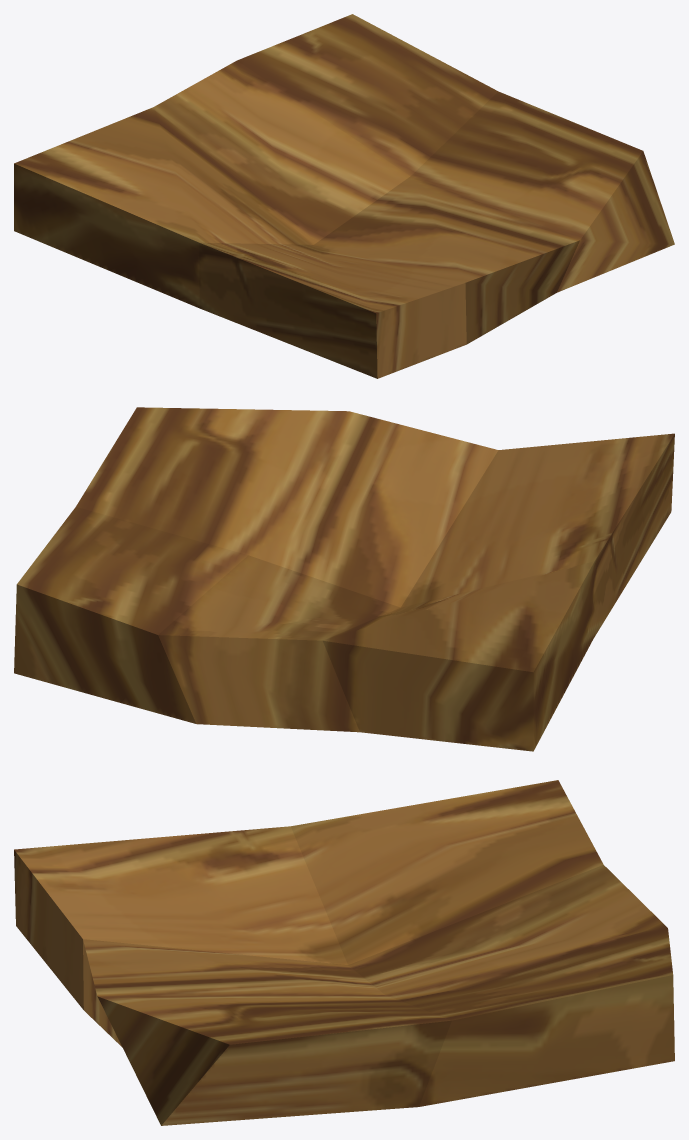
The model's file is plank_1x1.glb.
3 renders of one model, top to bottom at view 1: azimuth 30°, elevation 25°; view 2: azimuth 150°, elevation 25°; view 3: azimuth 270°, elevation 25°, orthographic. The views are drawn at different scales.
Parts seen in each view (by area): view 1: PLanks_square_small; view 2: PLanks_square_small; view 3: PLanks_square_small.
Boxes of the visible parts, <box> form: PLanks_square_small: <box>14,14,674,378</box>; PLanks_square_small: <box>14,407,674,751</box>; PLanks_square_small: <box>14,780,674,1125</box>.
Bounding box in the file's own units: 1.24 × 0.2819 × 1.3.
1 material, 1 textured.
